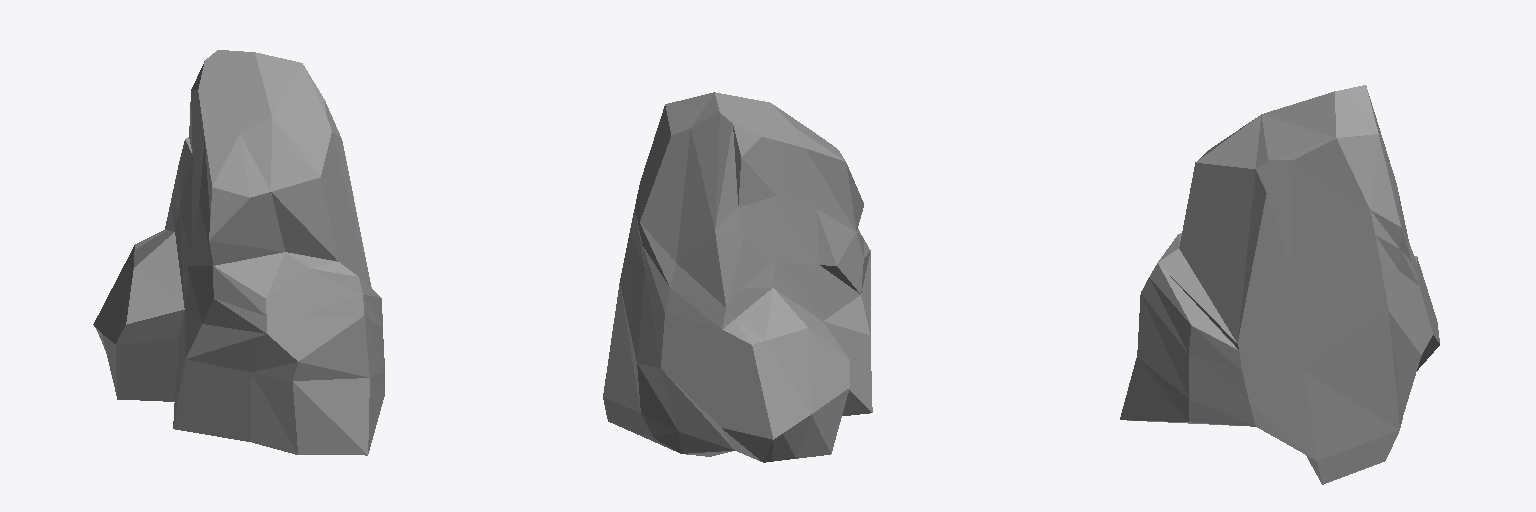
File: Rock_1.obj
The picture shows the model from 3 angles: view 1: azimuth 30°, elevation 25°; view 2: azimuth 150°, elevation 25°; view 3: azimuth 270°, elevation 25°; orthographic projection.
Parts seen in each view (by area): view 1: Rock_1_Cube.001; view 2: Rock_1_Cube.001; view 3: Rock_1_Cube.001.
Boxes of the visible parts, x1=… form: Rock_1_Cube.001: x1=93, y1=50, x2=384, y2=455; Rock_1_Cube.001: x1=603, y1=92, x2=872, y2=462; Rock_1_Cube.001: x1=1120, y1=85, x2=1439, y2=484.
Bounding box in the file's own units: 0.7107 × 1.08 × 0.8874.